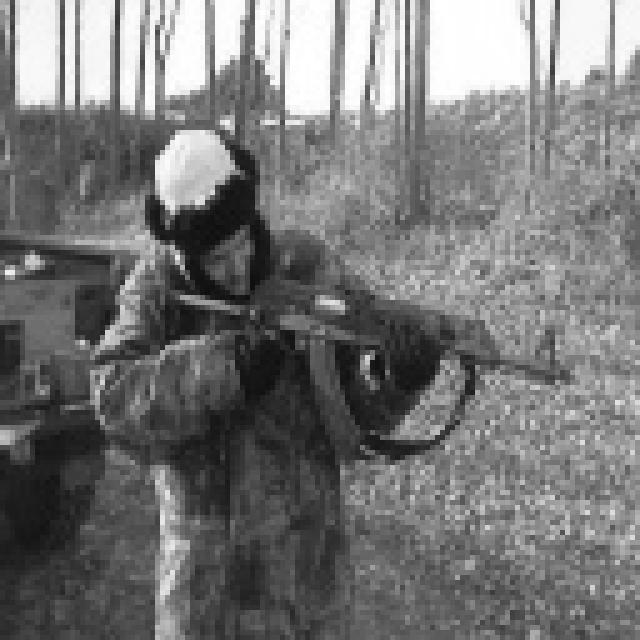Rifle: (161, 270, 594, 475)
